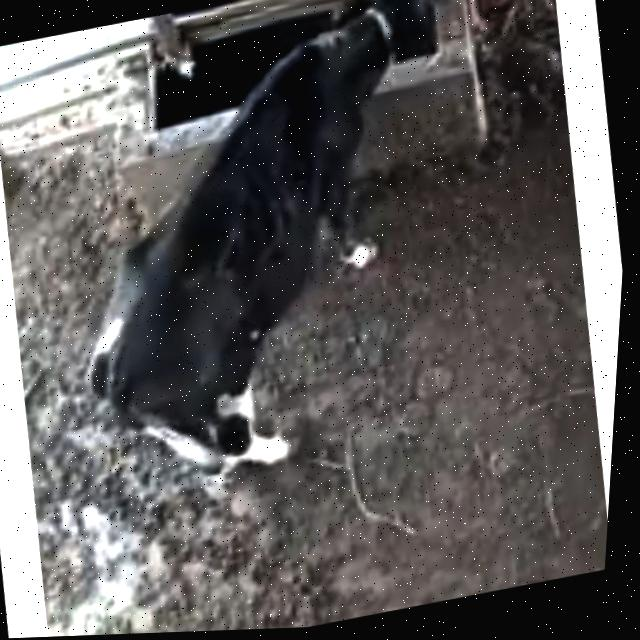drink: (265, 0, 461, 116)
